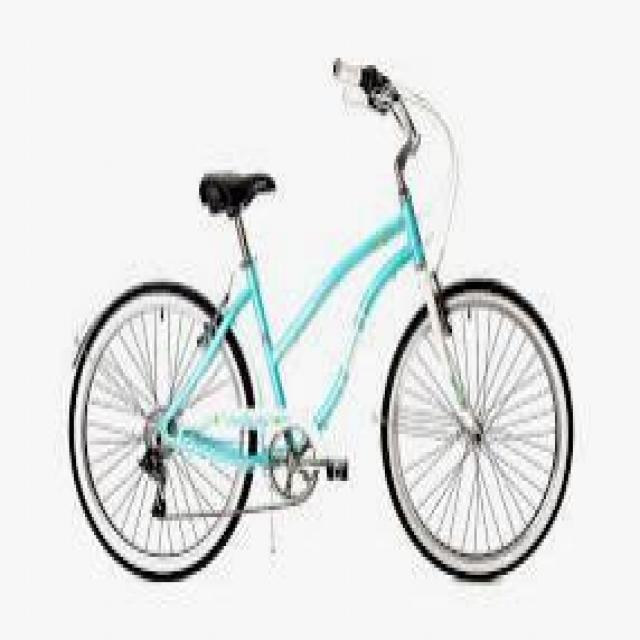bicycle: (88, 55, 572, 576)
